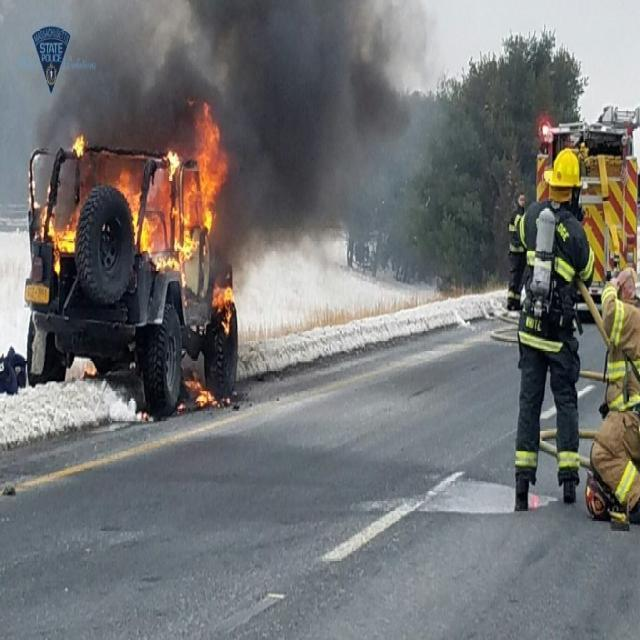Fire: (181, 108, 223, 259), (212, 282, 236, 332)
Smoke: (232, 5, 386, 215)
